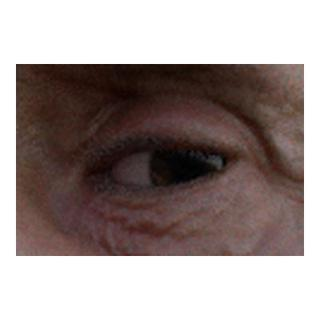pupil: (173, 155, 200, 182)
